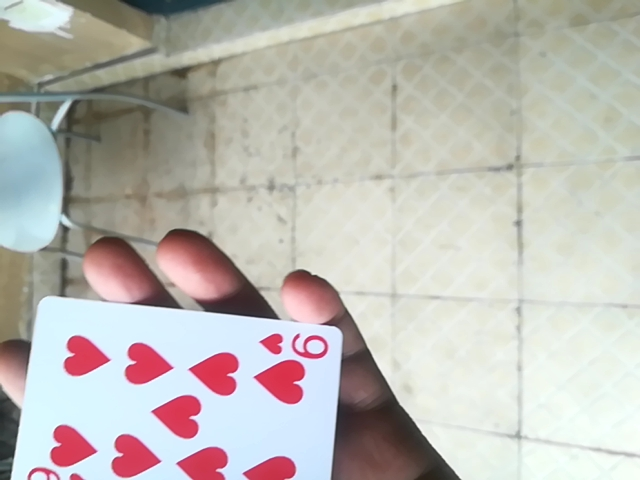hx 9: (8, 290, 343, 480)
